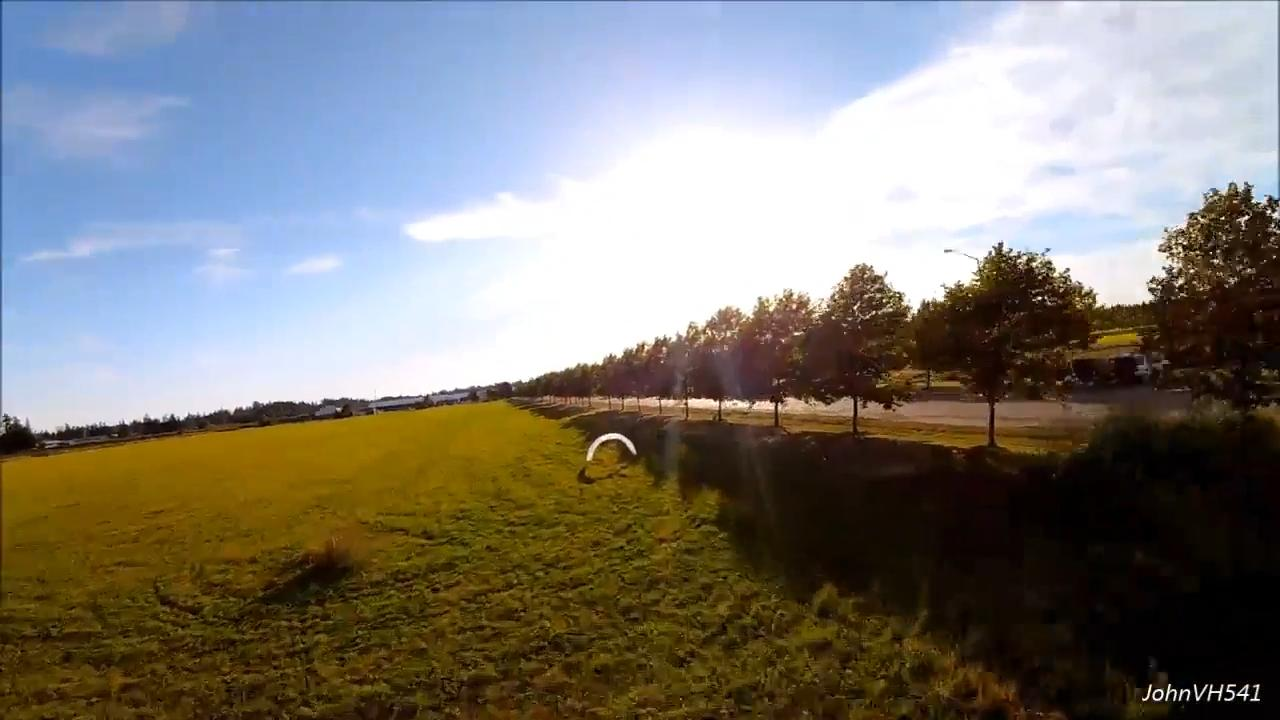gate: (584, 431, 638, 467)
